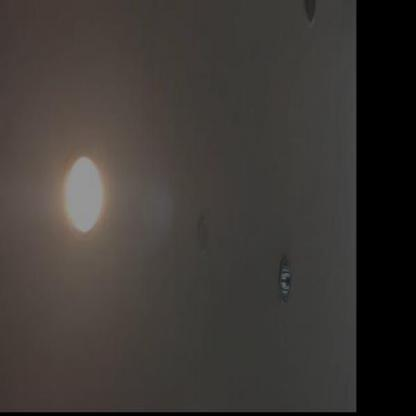light_on: (50, 138, 70, 238)
